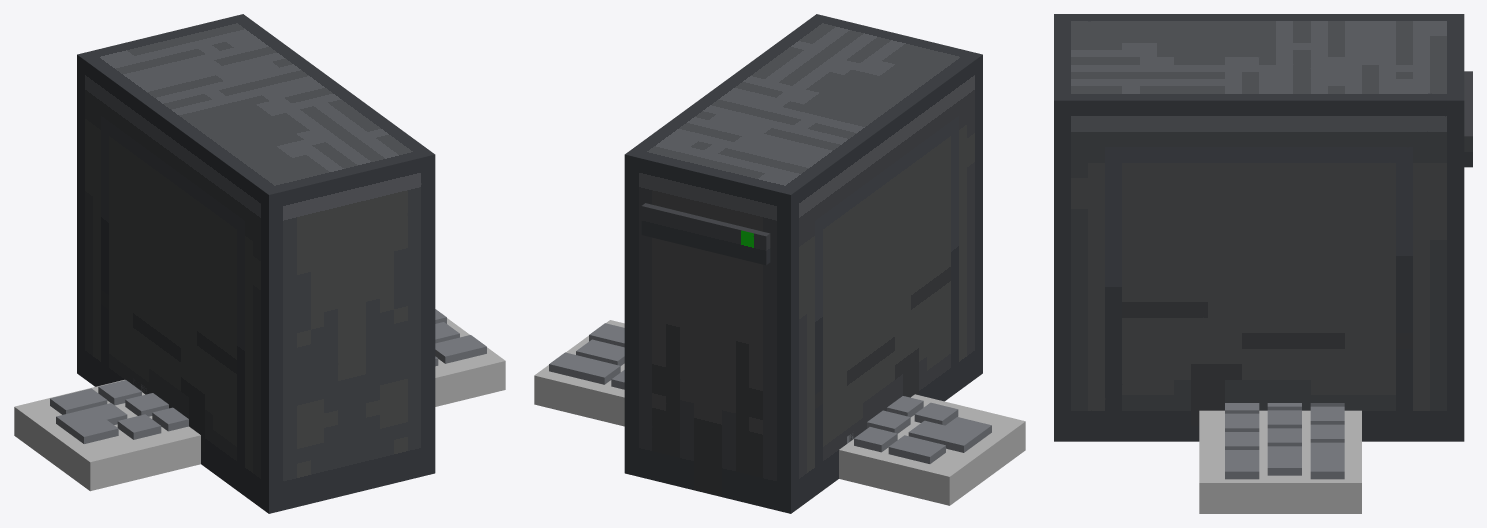
Rendered from Keyboard.fbx.
The picture shows the model from 3 angles, left to right: view 1: azimuth 30°, elevation 25°; view 2: azimuth 150°, elevation 25°; view 3: azimuth 270°, elevation 25°; orthographic projection. The views are drawn at different scales.
Visible parts, largest first — view 1: cube, cube_2, cube_30, cube_3, cube_31, cube_32, cube_33, cube_29, cube_26, cube_21; view 2: cube, cube_2, cube_1, cube_22, cube_30, cube_31, cube_7, cube_29, cube_32, cube_26, cube_3; view 3: cube, cube_2, cube_22, cube_7, cube_3, cube_1, cube_5, cube_6, cube_8, cube_18, cube_23, cube_4.
Part boxes in pixels (bbox=[...]): cube: bbox=[77, 14, 435, 513]; cube_2: bbox=[14, 318, 505, 491]; cube_30: bbox=[56, 403, 127, 434]; cube_3: bbox=[435, 335, 486, 363]; cube_31: bbox=[50, 388, 107, 414]; cube_32: bbox=[117, 414, 161, 439]; cube_33: bbox=[72, 420, 118, 443]; cube_29: bbox=[98, 380, 141, 405]; cube_26: bbox=[125, 393, 168, 416]; cube_21: bbox=[152, 407, 188, 431]; cube: bbox=[624, 14, 982, 513]; cube_2: bbox=[534, 320, 1025, 505]; cube_1: bbox=[641, 203, 770, 265]; cube_22: bbox=[549, 352, 620, 384]; cube_30: bbox=[908, 420, 979, 452]; cube_31: bbox=[888, 435, 945, 463]; cube_7: bbox=[576, 339, 624, 365]; cube_29: bbox=[854, 427, 897, 452]; cube_32: bbox=[914, 402, 958, 425]; cube_26: bbox=[867, 410, 910, 433]; cube_3: bbox=[589, 323, 624, 347]; cube: bbox=[1054, 14, 1464, 441]; cube_2: bbox=[1199, 410, 1361, 513]; cube_22: bbox=[1310, 442, 1344, 479]; cube_7: bbox=[1267, 446, 1301, 475]; cube_3: bbox=[1225, 450, 1259, 479]; cube_1: bbox=[1464, 71, 1472, 167]; cube_5: bbox=[1225, 413, 1259, 431]; cube_6: bbox=[1267, 410, 1301, 428]; cube_8: bbox=[1267, 428, 1301, 446]; cube_18: bbox=[1310, 406, 1344, 424]; cube_23: bbox=[1310, 424, 1344, 442]; cube_4: bbox=[1225, 432, 1259, 449].
Size of the model in its own units: 93.75 by 68.75 by 76.56.
2 materials, 2 textured.
